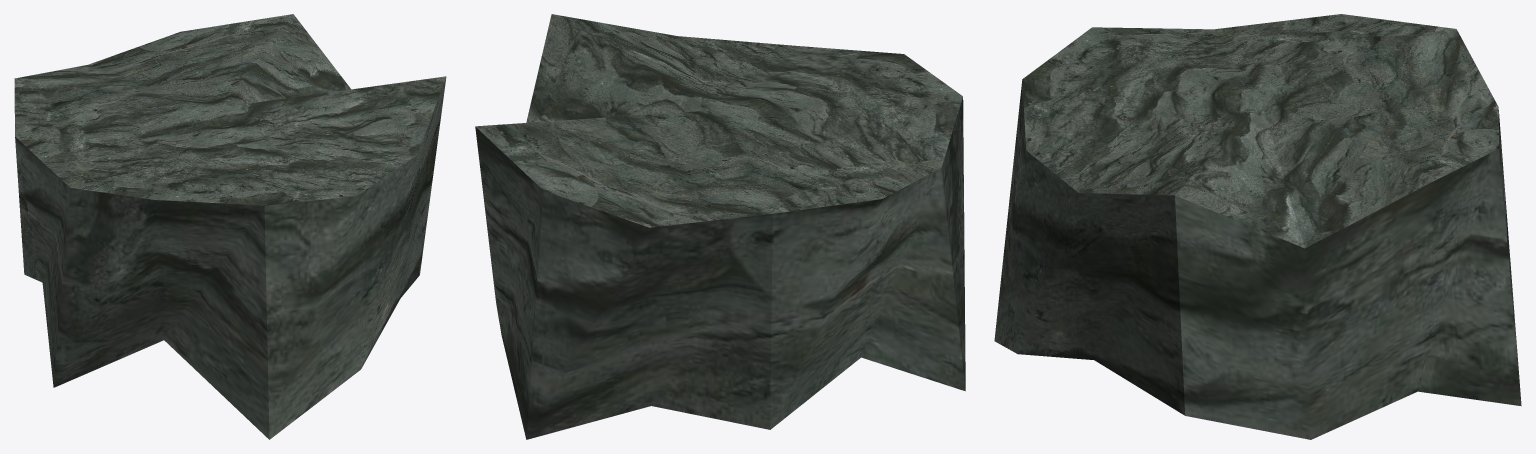
File: rocks_10.glb
The picture shows the model from 3 angles, left to right: view 1: azimuth 30°, elevation 25°; view 2: azimuth 150°, elevation 25°; view 3: azimuth 270°, elevation 25°; orthographic projection. The views are drawn at different scales.
Visible parts, largest first — view 1: 10-512 (×2); view 2: 10-512 (×2); view 3: 10-512 (×2).
Boxes of the visible parts, x1,y1,x2,y2 form: 10-512 (×2): (14, 14, 446, 439); 10-512 (×2): (475, 14, 965, 439); 10-512 (×2): (994, 14, 1521, 439).
Bounding box in the file's own units: 10.79 × 6.7 × 10.96.
Materials: 1 (1 with a texture image).
